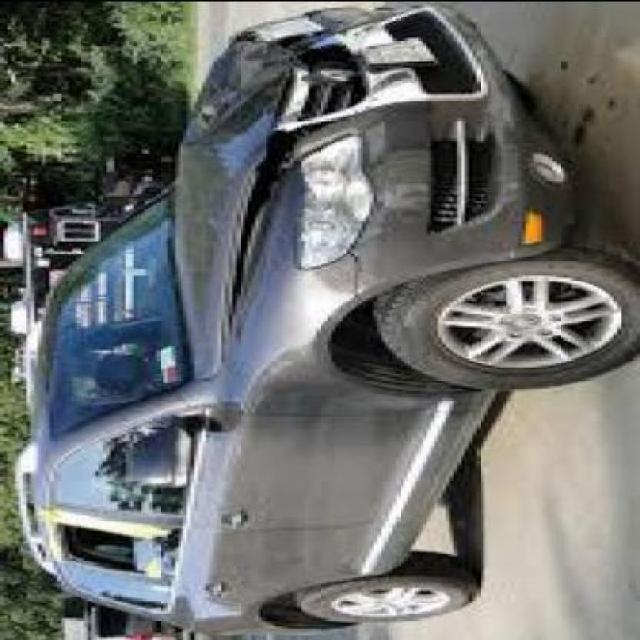damage: (179, 8, 494, 367)
